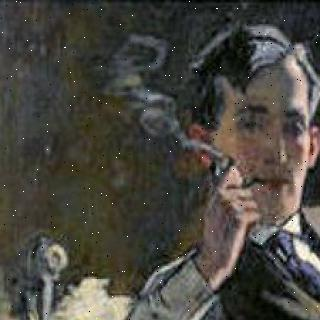smoke: (105, 46, 178, 148)
